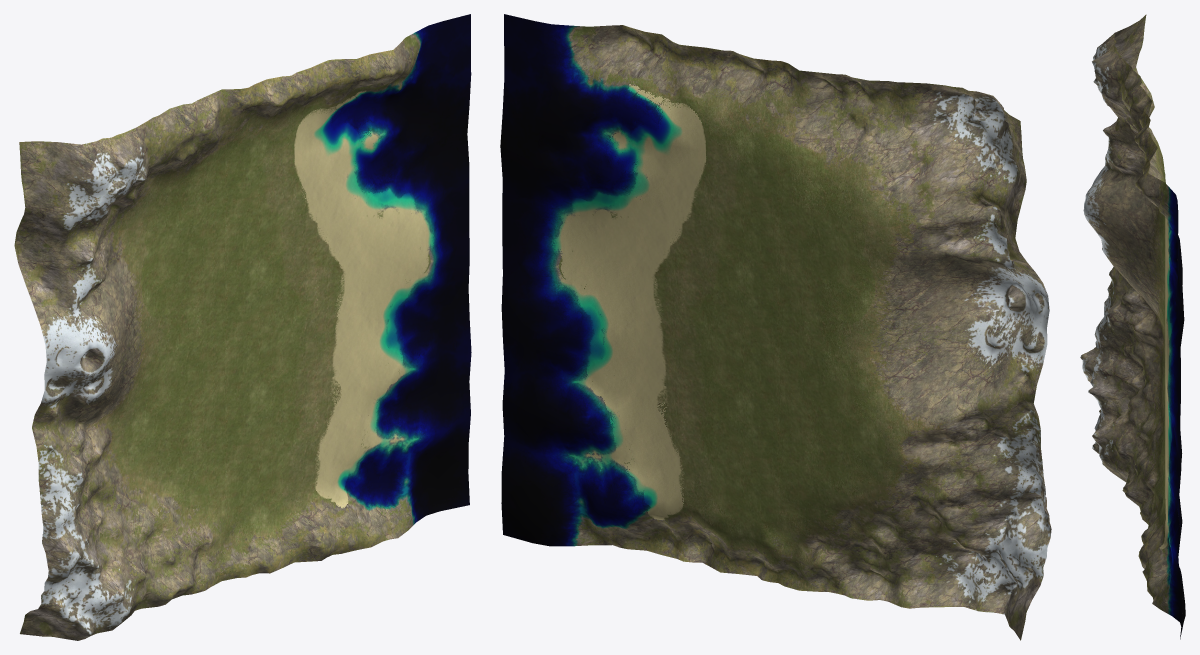
Rendered from hell.obj.
3 views of the same model, side by side, from view 1: azimuth 30°, elevation 25°; view 2: azimuth 150°, elevation 25°; view 3: azimuth 270°, elevation 25° (orthographic). The views are drawn at different scales.
Visible parts, largest first — view 1: terrain_g; view 2: terrain_g; view 3: terrain_g.
Boxes of the visible parts, <box> form: terrain_g: <box>14,14,471,640</box>; terrain_g: <box>500,14,1051,640</box>; terrain_g: <box>1080,14,1185,639</box>.
Bounding box in the file's own units: 10230 × 10230 × 2290.
